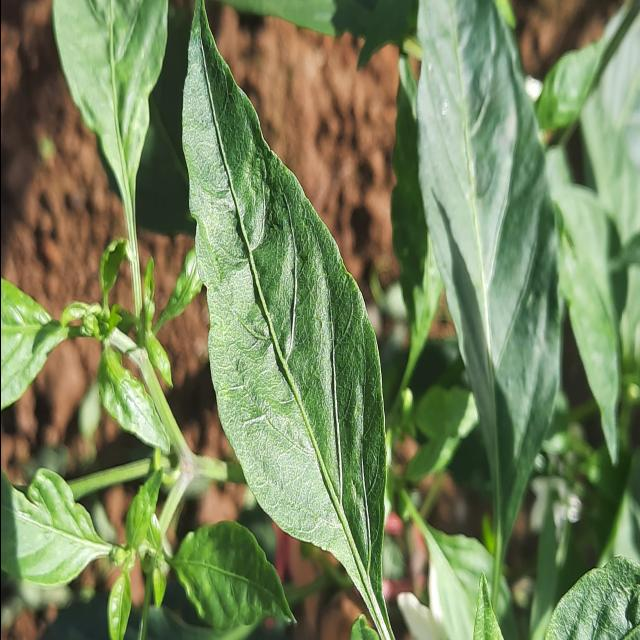sehat: (408, 1, 565, 520)
